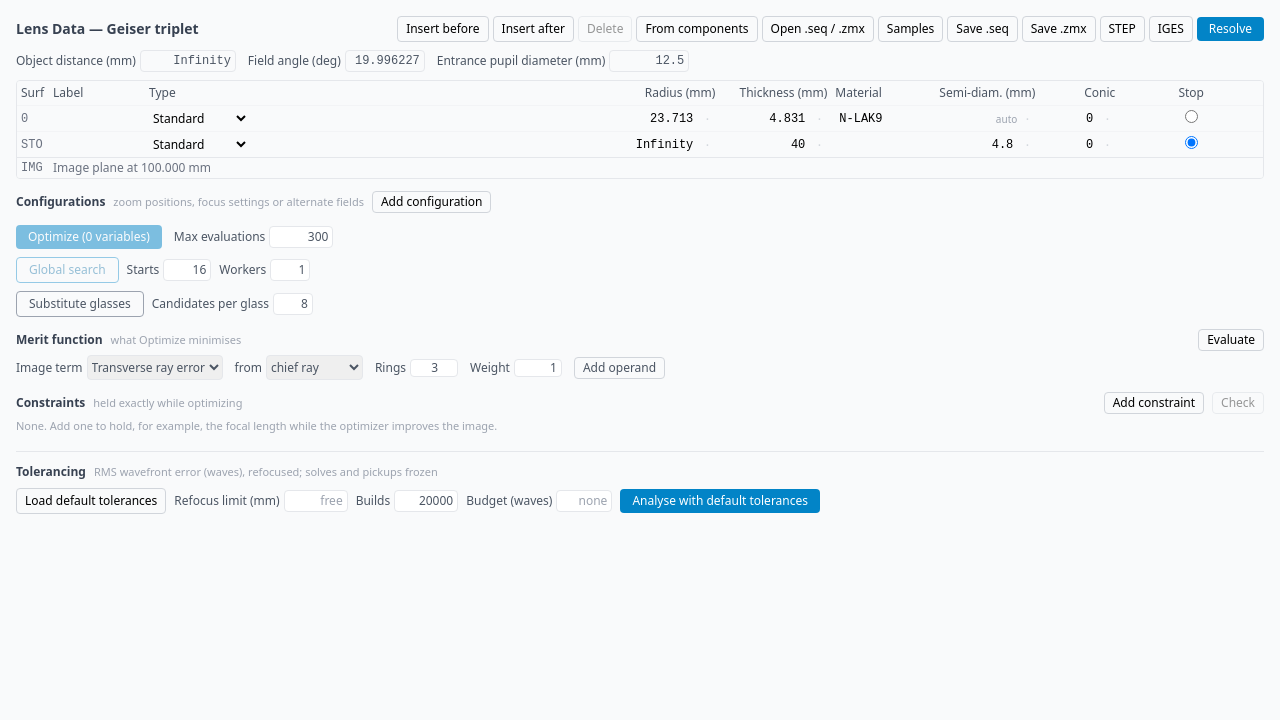
it: sample lenses › lists the samples only when asked
What coordinates should you click on to do the following:
click the button "Samples"
I would click on:
 (911, 29)
Its box is [878,16,943,42].
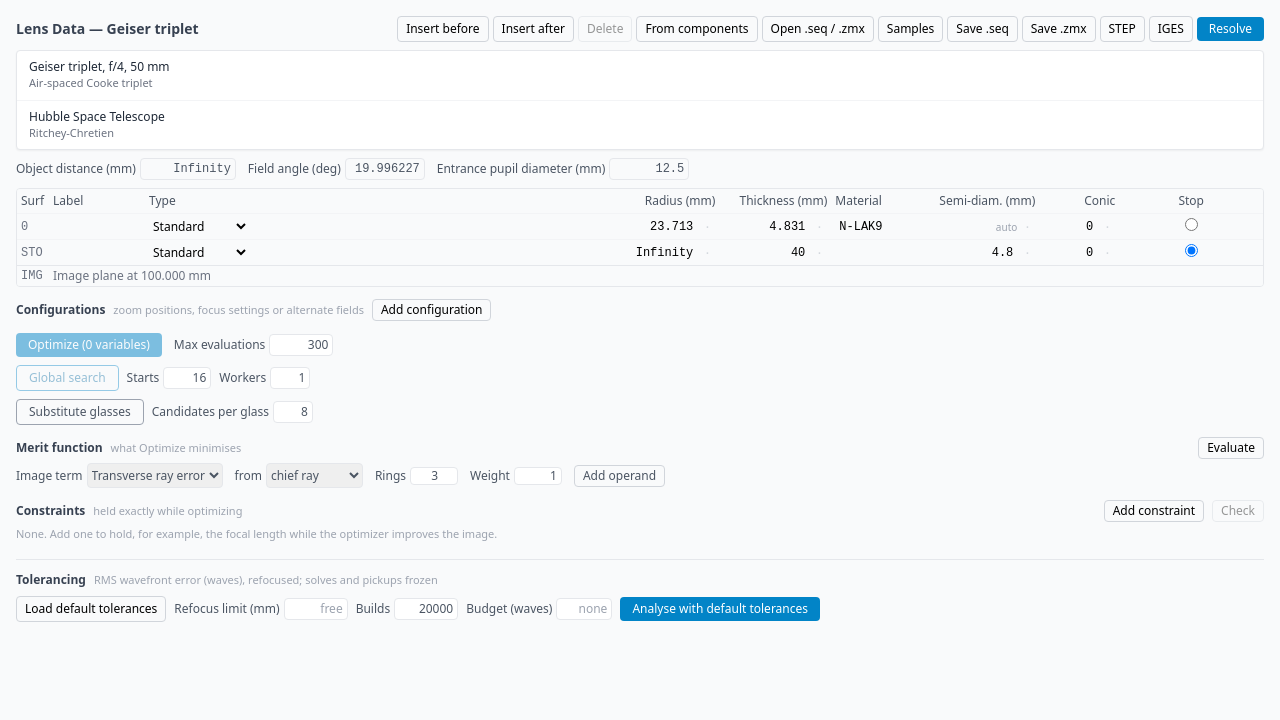
Expected: the menu named "Sample lenses" is shown, [16,50,1264,150]
Expected: the number of menu items is 2, [17,51,1263,100]; [17,100,1263,149]
# a second click closes the menu without fetching again
What coordinates should you click on to do the following:
click the button "Samples"
I would click on:
 (911, 29)
Its box is [878,16,943,42].
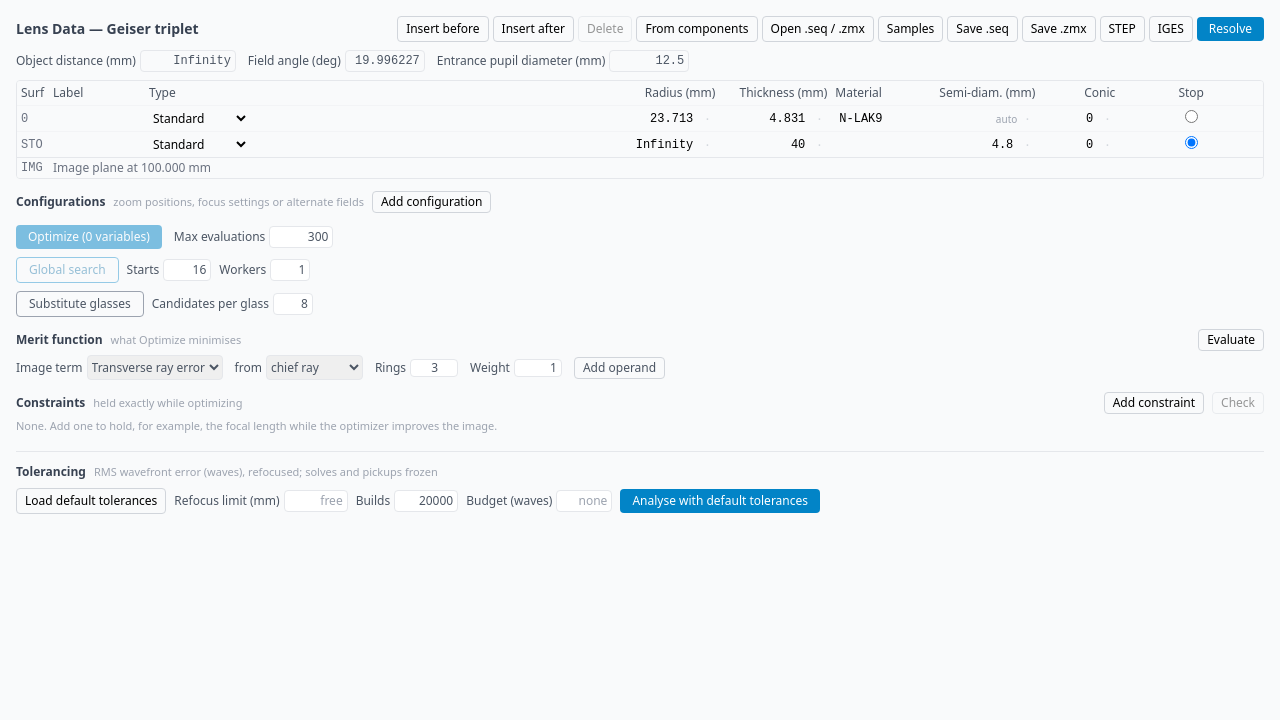
Expected: the menu is gone
